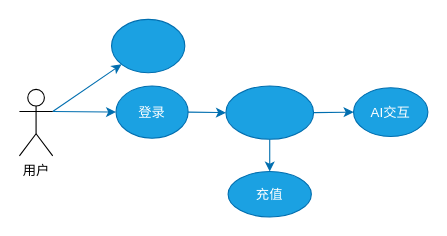
This 447x236 diagram has some shape labels left out. Here are the shapes that lost their labels. From the top down, the centre of each, then its label:
At pixel 147 45: "注册".
At pixel 269 112: "账户校验".
